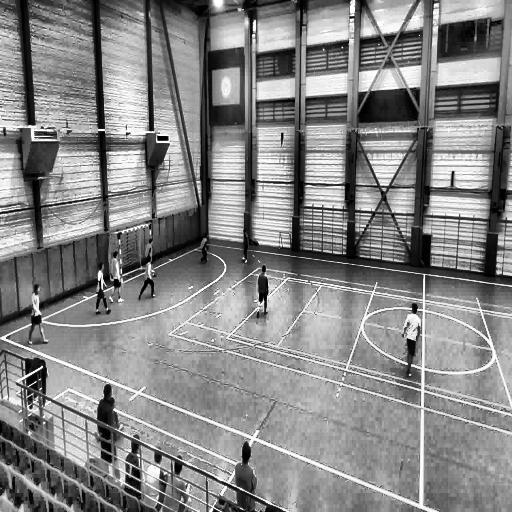ball: (242, 255, 246, 264)
player: (96, 384, 124, 485), (234, 441, 257, 512), (402, 301, 421, 379), (30, 285, 48, 342), (109, 250, 124, 306), (95, 263, 111, 314), (138, 256, 156, 300), (256, 265, 269, 317), (240, 228, 250, 269), (145, 236, 155, 275), (200, 233, 209, 264)
